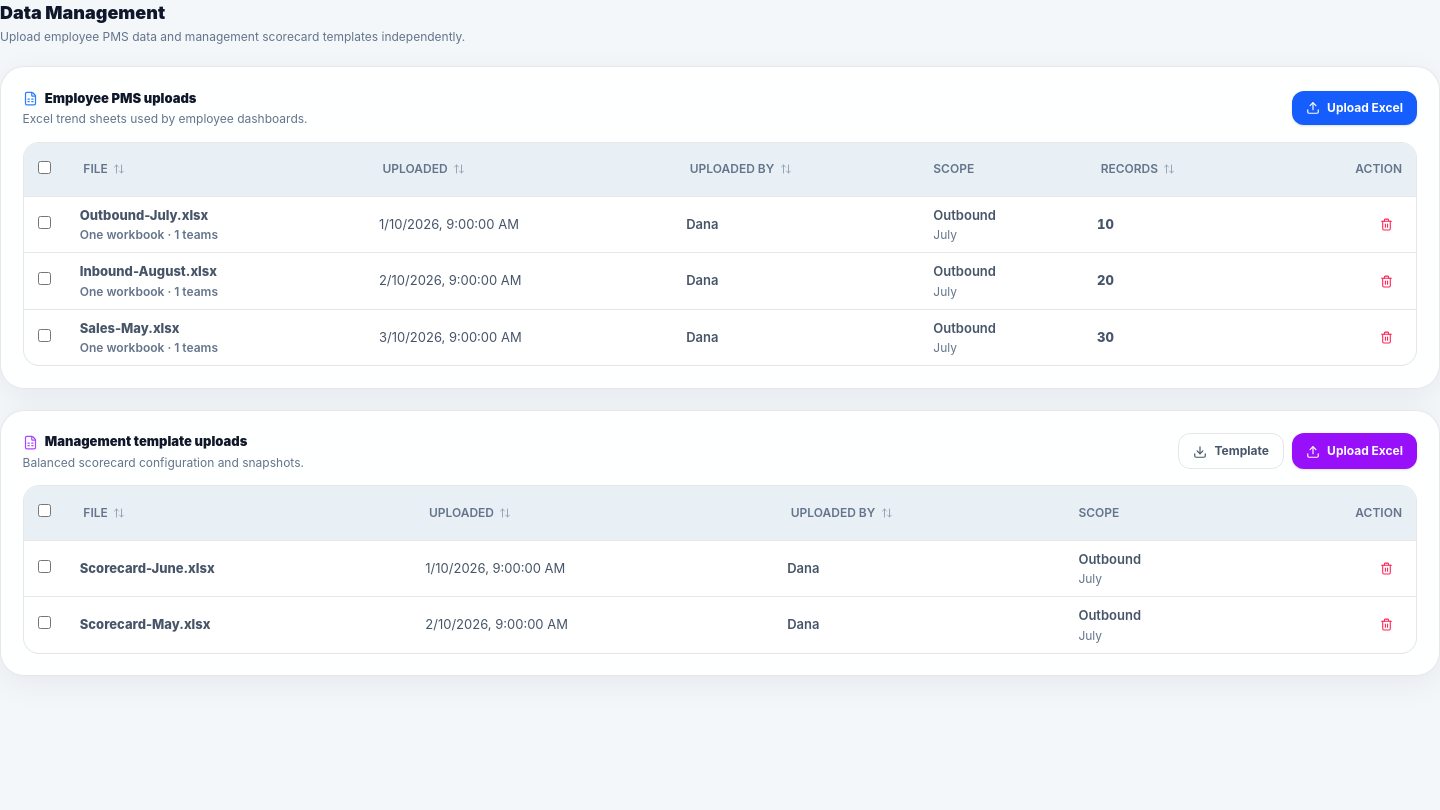
DataManagementPanel batch delete › asks first, names the files, and sends nothing when the user keeps them
The width and height of the screenshot is (1440, 810).
Click the checkbox named "Select Outbound-July.xlsx": (44, 222) [38, 216, 51, 229]
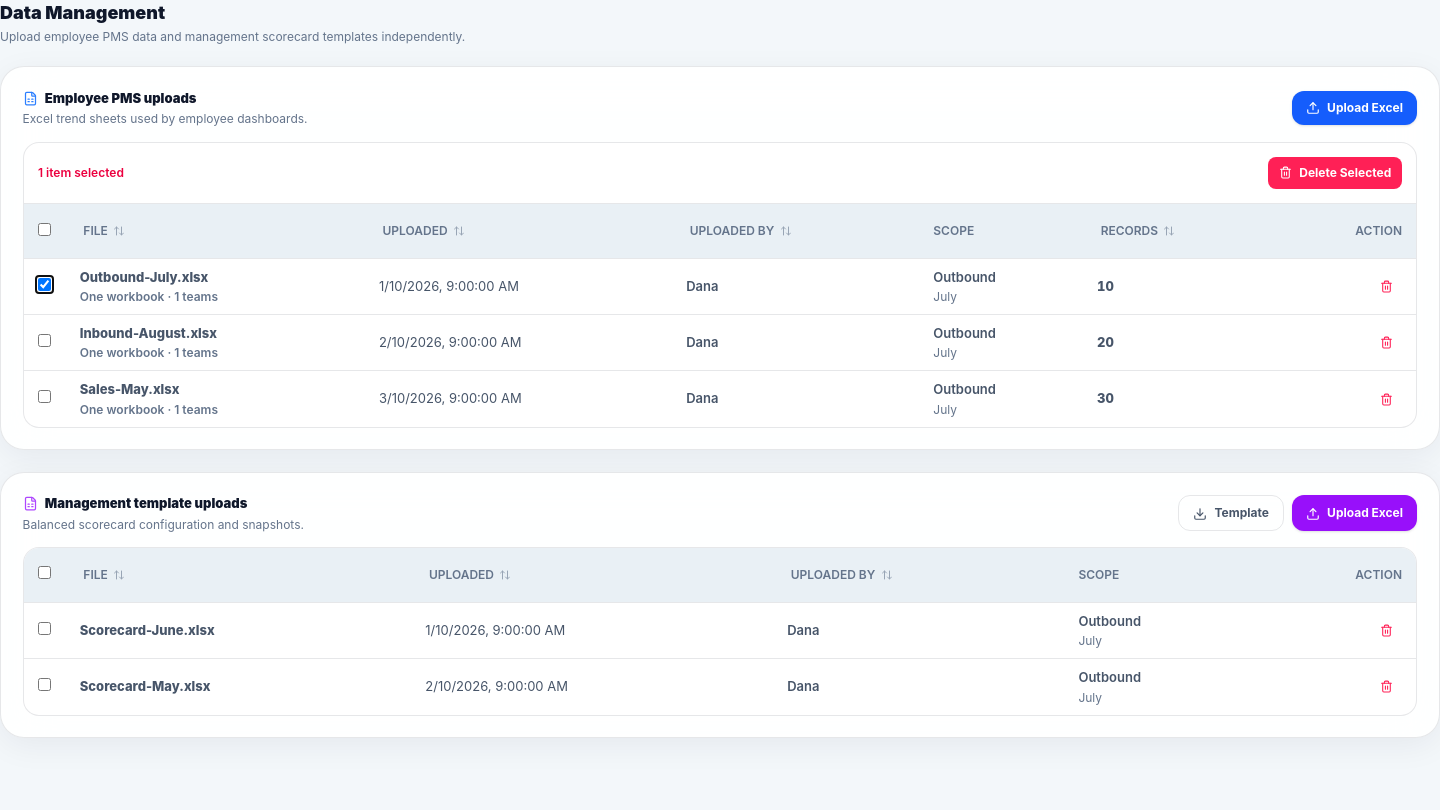
Click the checkbox named "Select Inbound-August.xlsx": (44, 341) [38, 334, 51, 347]
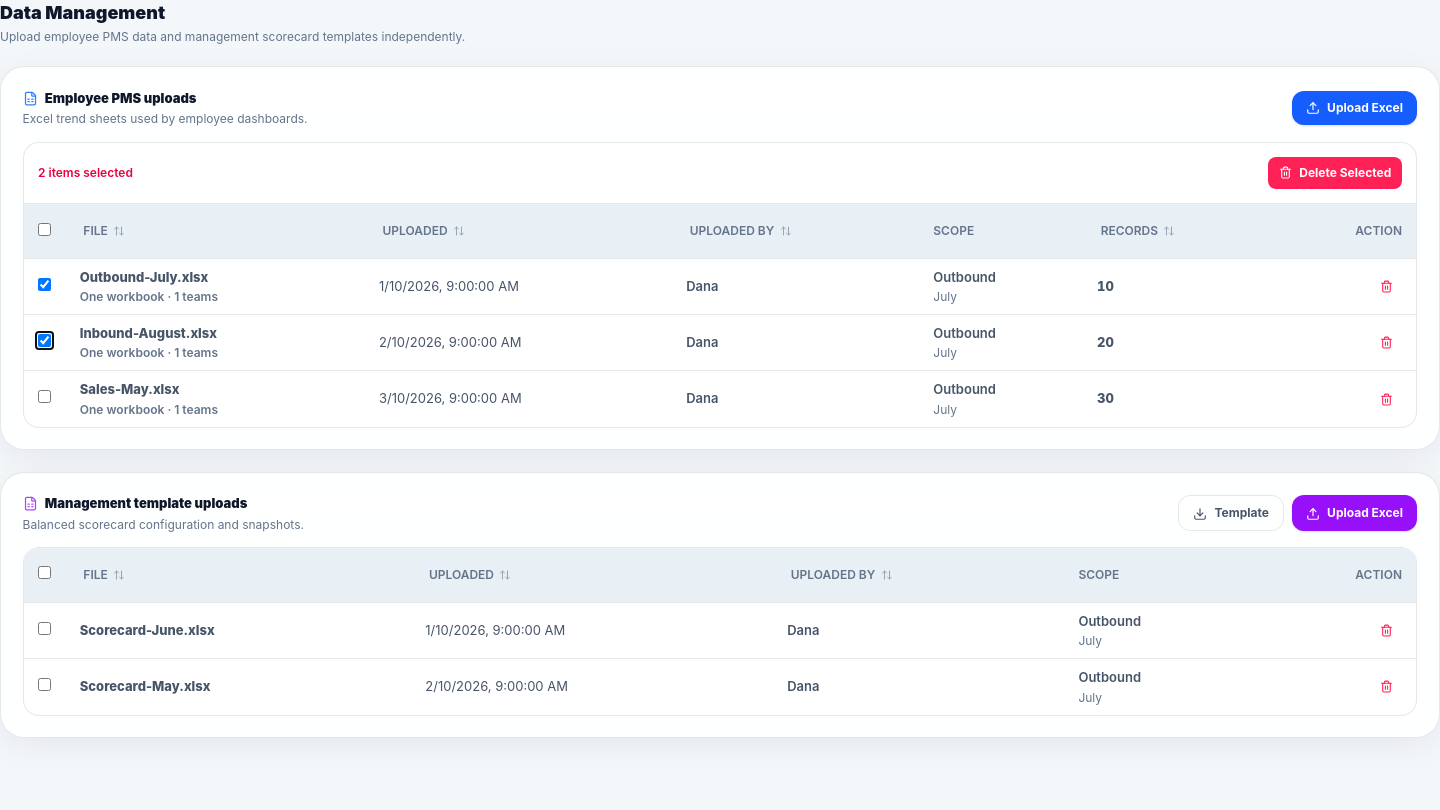
Click the button "Delete Selected": (1335, 173) [1268, 157, 1402, 189]
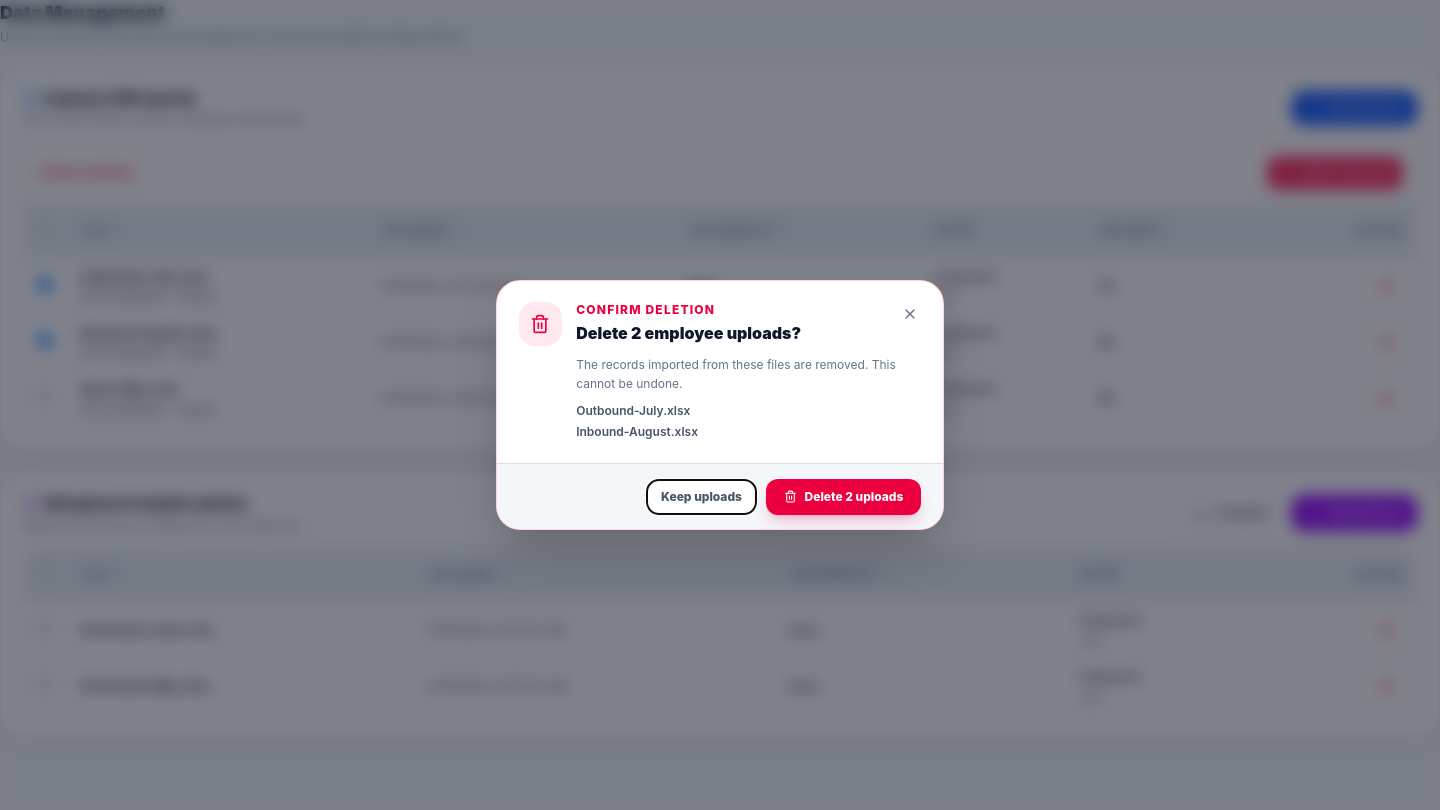
Now the dialog shows "Delete 2 employee uploads?", box [576, 323, 801, 343]
Now the dialog shows "The records imported from these files are removed. This cannot be undone.", box [496, 280, 944, 530]
Now the list item "Outbound-July.xlsx" is shown, box [576, 403, 690, 418]
Click the button "Keep uploads": (702, 497) [646, 479, 757, 515]
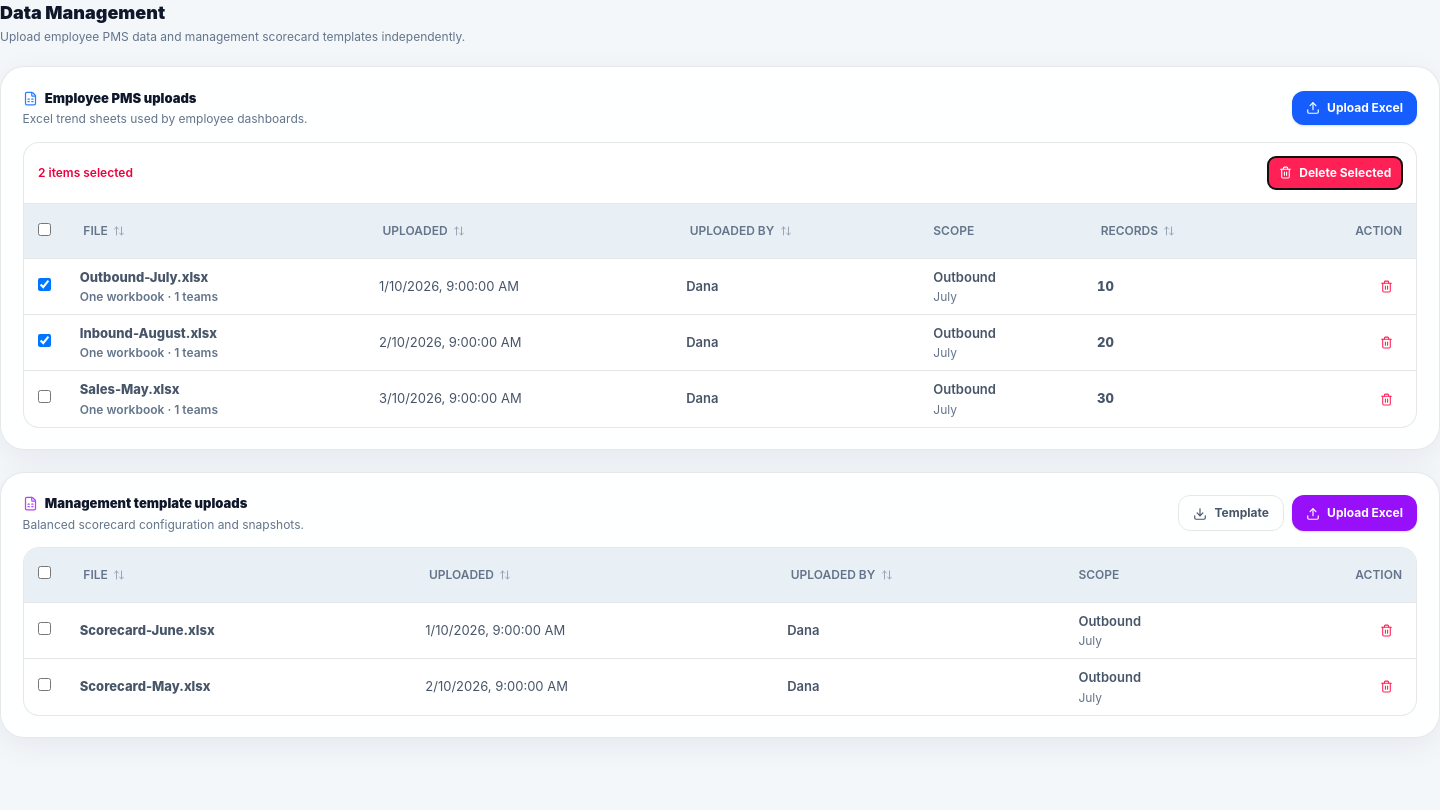
Now the text "2 items selected" is shown, box [38, 165, 133, 181]
Now the dialog is gone
